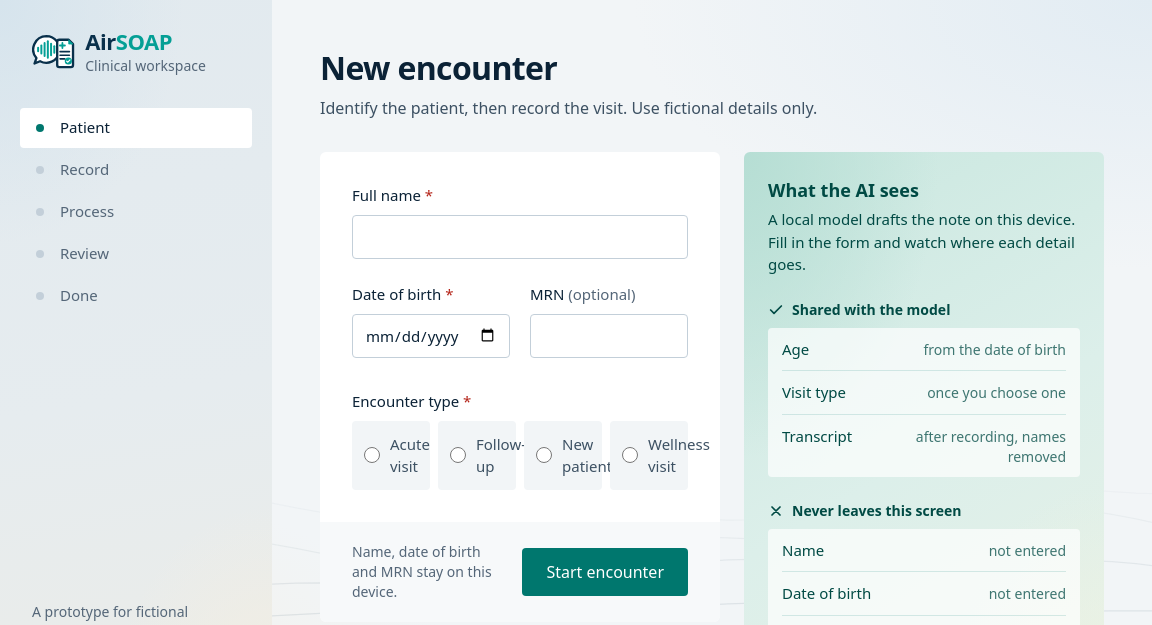
Test: AirSOAP workflow › shows validation errors and does not start with an incomplete form
What coordinates should you click on to do the following:
click the button "Start encounter"
I would click on:
 (605, 572)
Its box is [522,548,688,596].
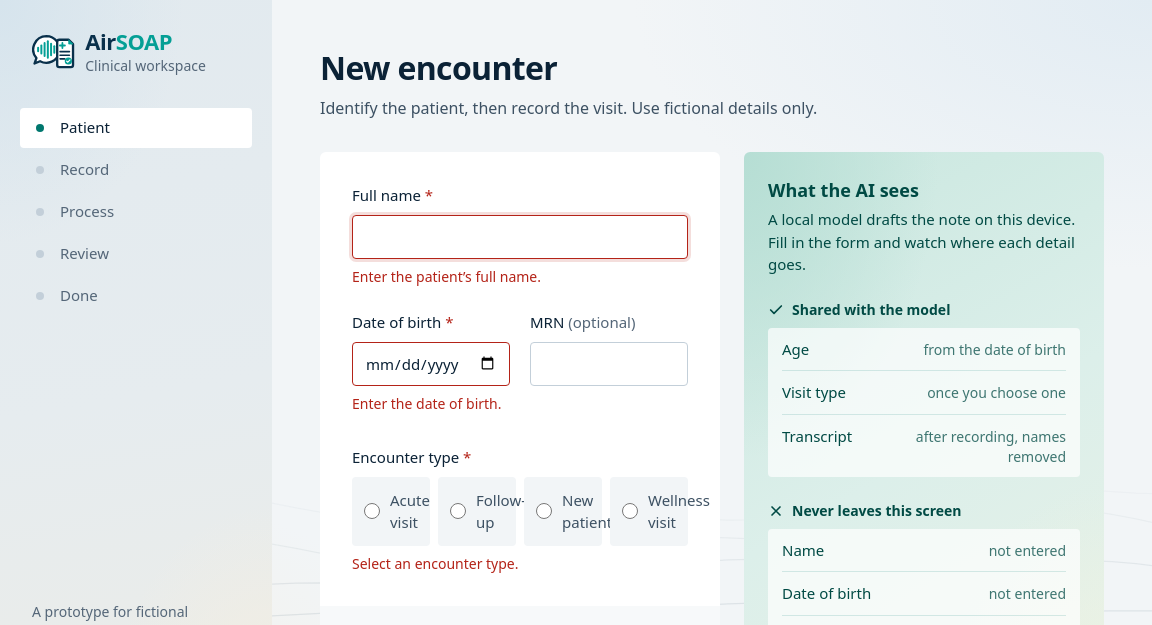
Expected: the heading "New encounter" is shown, [320,46,557,89]
Expected: the text "Enter the patient’s full name." is shown, [352,267,541,286]
Expected: the text "Enter the date of birth." is shown, [352,394,510,414]
